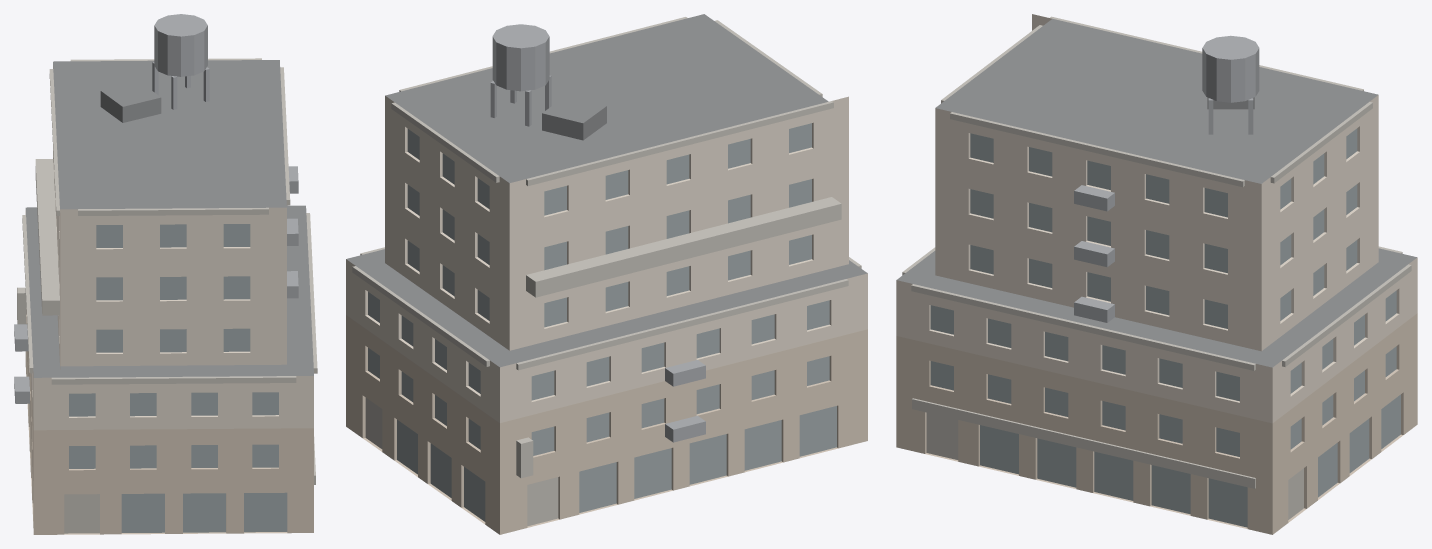
Rendered from doitt-584049__lod_0.glb.
3 views of the same model, side by side, from view 1: azimuth 30°, elevation 25°; view 2: azimuth 150°, elevation 25°; view 3: azimuth 270°, elevation 25° (orthographic). The views are drawn at different scales.
Size of the model in its own units: 29.6 by 28.74 by 32.94.
